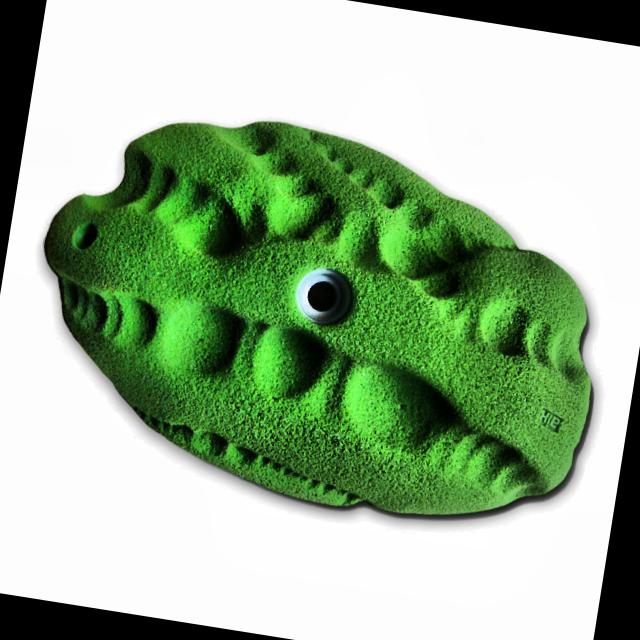Hold: (4, 92, 627, 550)
